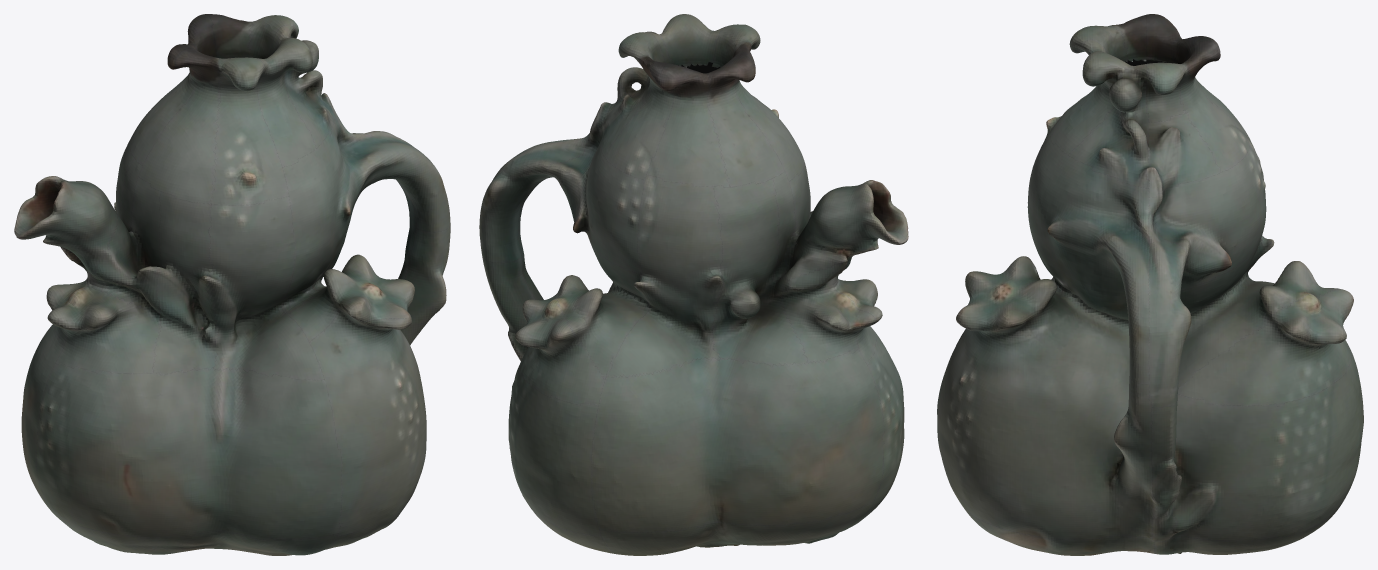
File: celadon-pomegranate-ewer.glb
3 views of the same model, side by side, from view 1: azimuth 30°, elevation 25°; view 2: azimuth 150°, elevation 25°; view 3: azimuth 270°, elevation 25° (orthographic). The views are drawn at different scales.
Parts seen in each view (by area): view 1: duk002170-000-30000; view 2: duk002170-000-30000; view 3: duk002170-000-30000.
Boxes of the visible parts, x1=… form: duk002170-000-30000: x1=14, y1=14, x2=450, y2=555; duk002170-000-30000: x1=479, y1=14, x2=908, y2=555; duk002170-000-30000: x1=937, y1=14, x2=1363, y2=555.
Bounding box in the file's own units: 1.19 × 1.26 × 1.01.
1 material, 1 textured.
